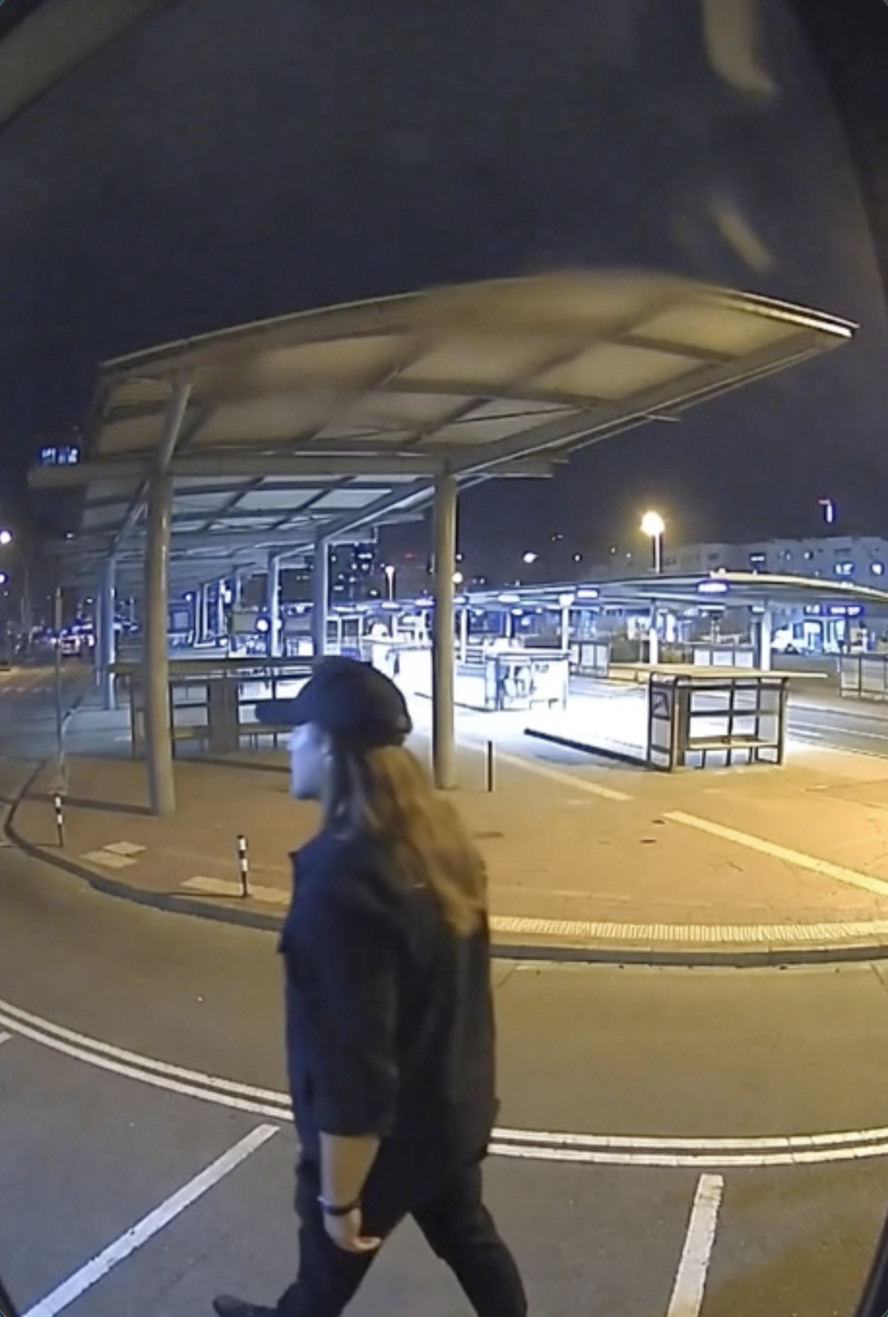Heavy Gun: (192, 657, 549, 1317)
